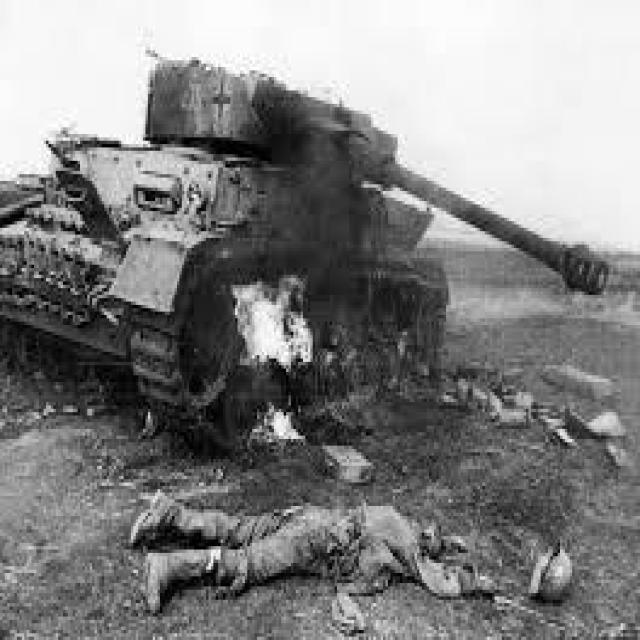Tanks: (12, 59, 456, 444)
